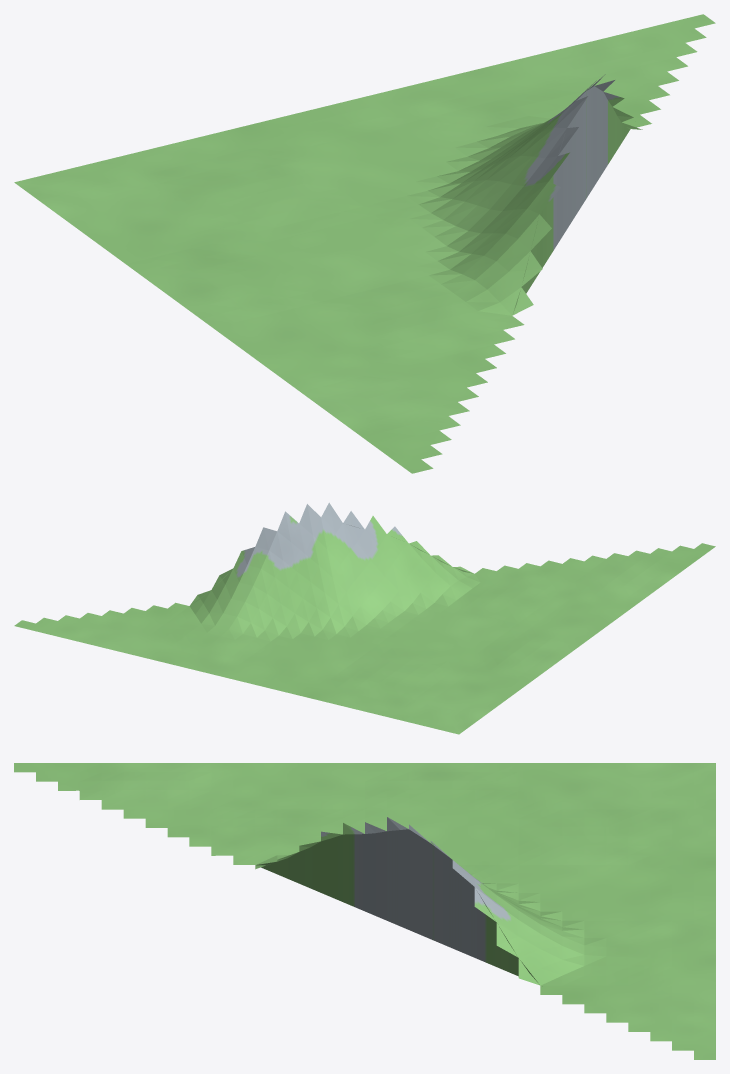
The model's file is Grass_RockyMountains_03_SW.obj.
3 renders of one model, top to bottom at view 1: azimuth 30°, elevation 25°; view 2: azimuth 150°, elevation 25°; view 3: azimuth 270°, elevation 25°, orthographic. The views are drawn at different scales.
Size of the model in its own units: 10 by 1.81 by 10.
1 material, 1 textured.
